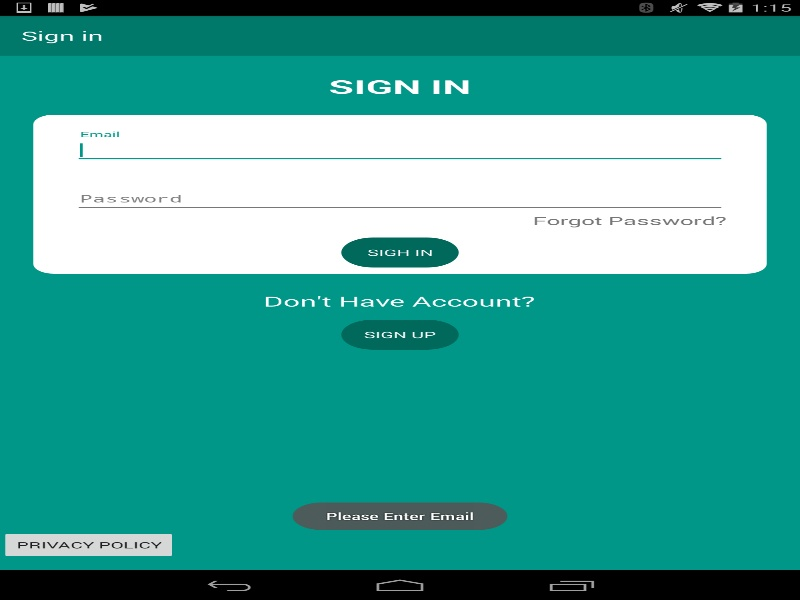Button: (0, 530, 177, 560), (341, 237, 458, 267), (341, 319, 458, 349)
Input: (73, 137, 726, 163), (73, 186, 726, 212)
